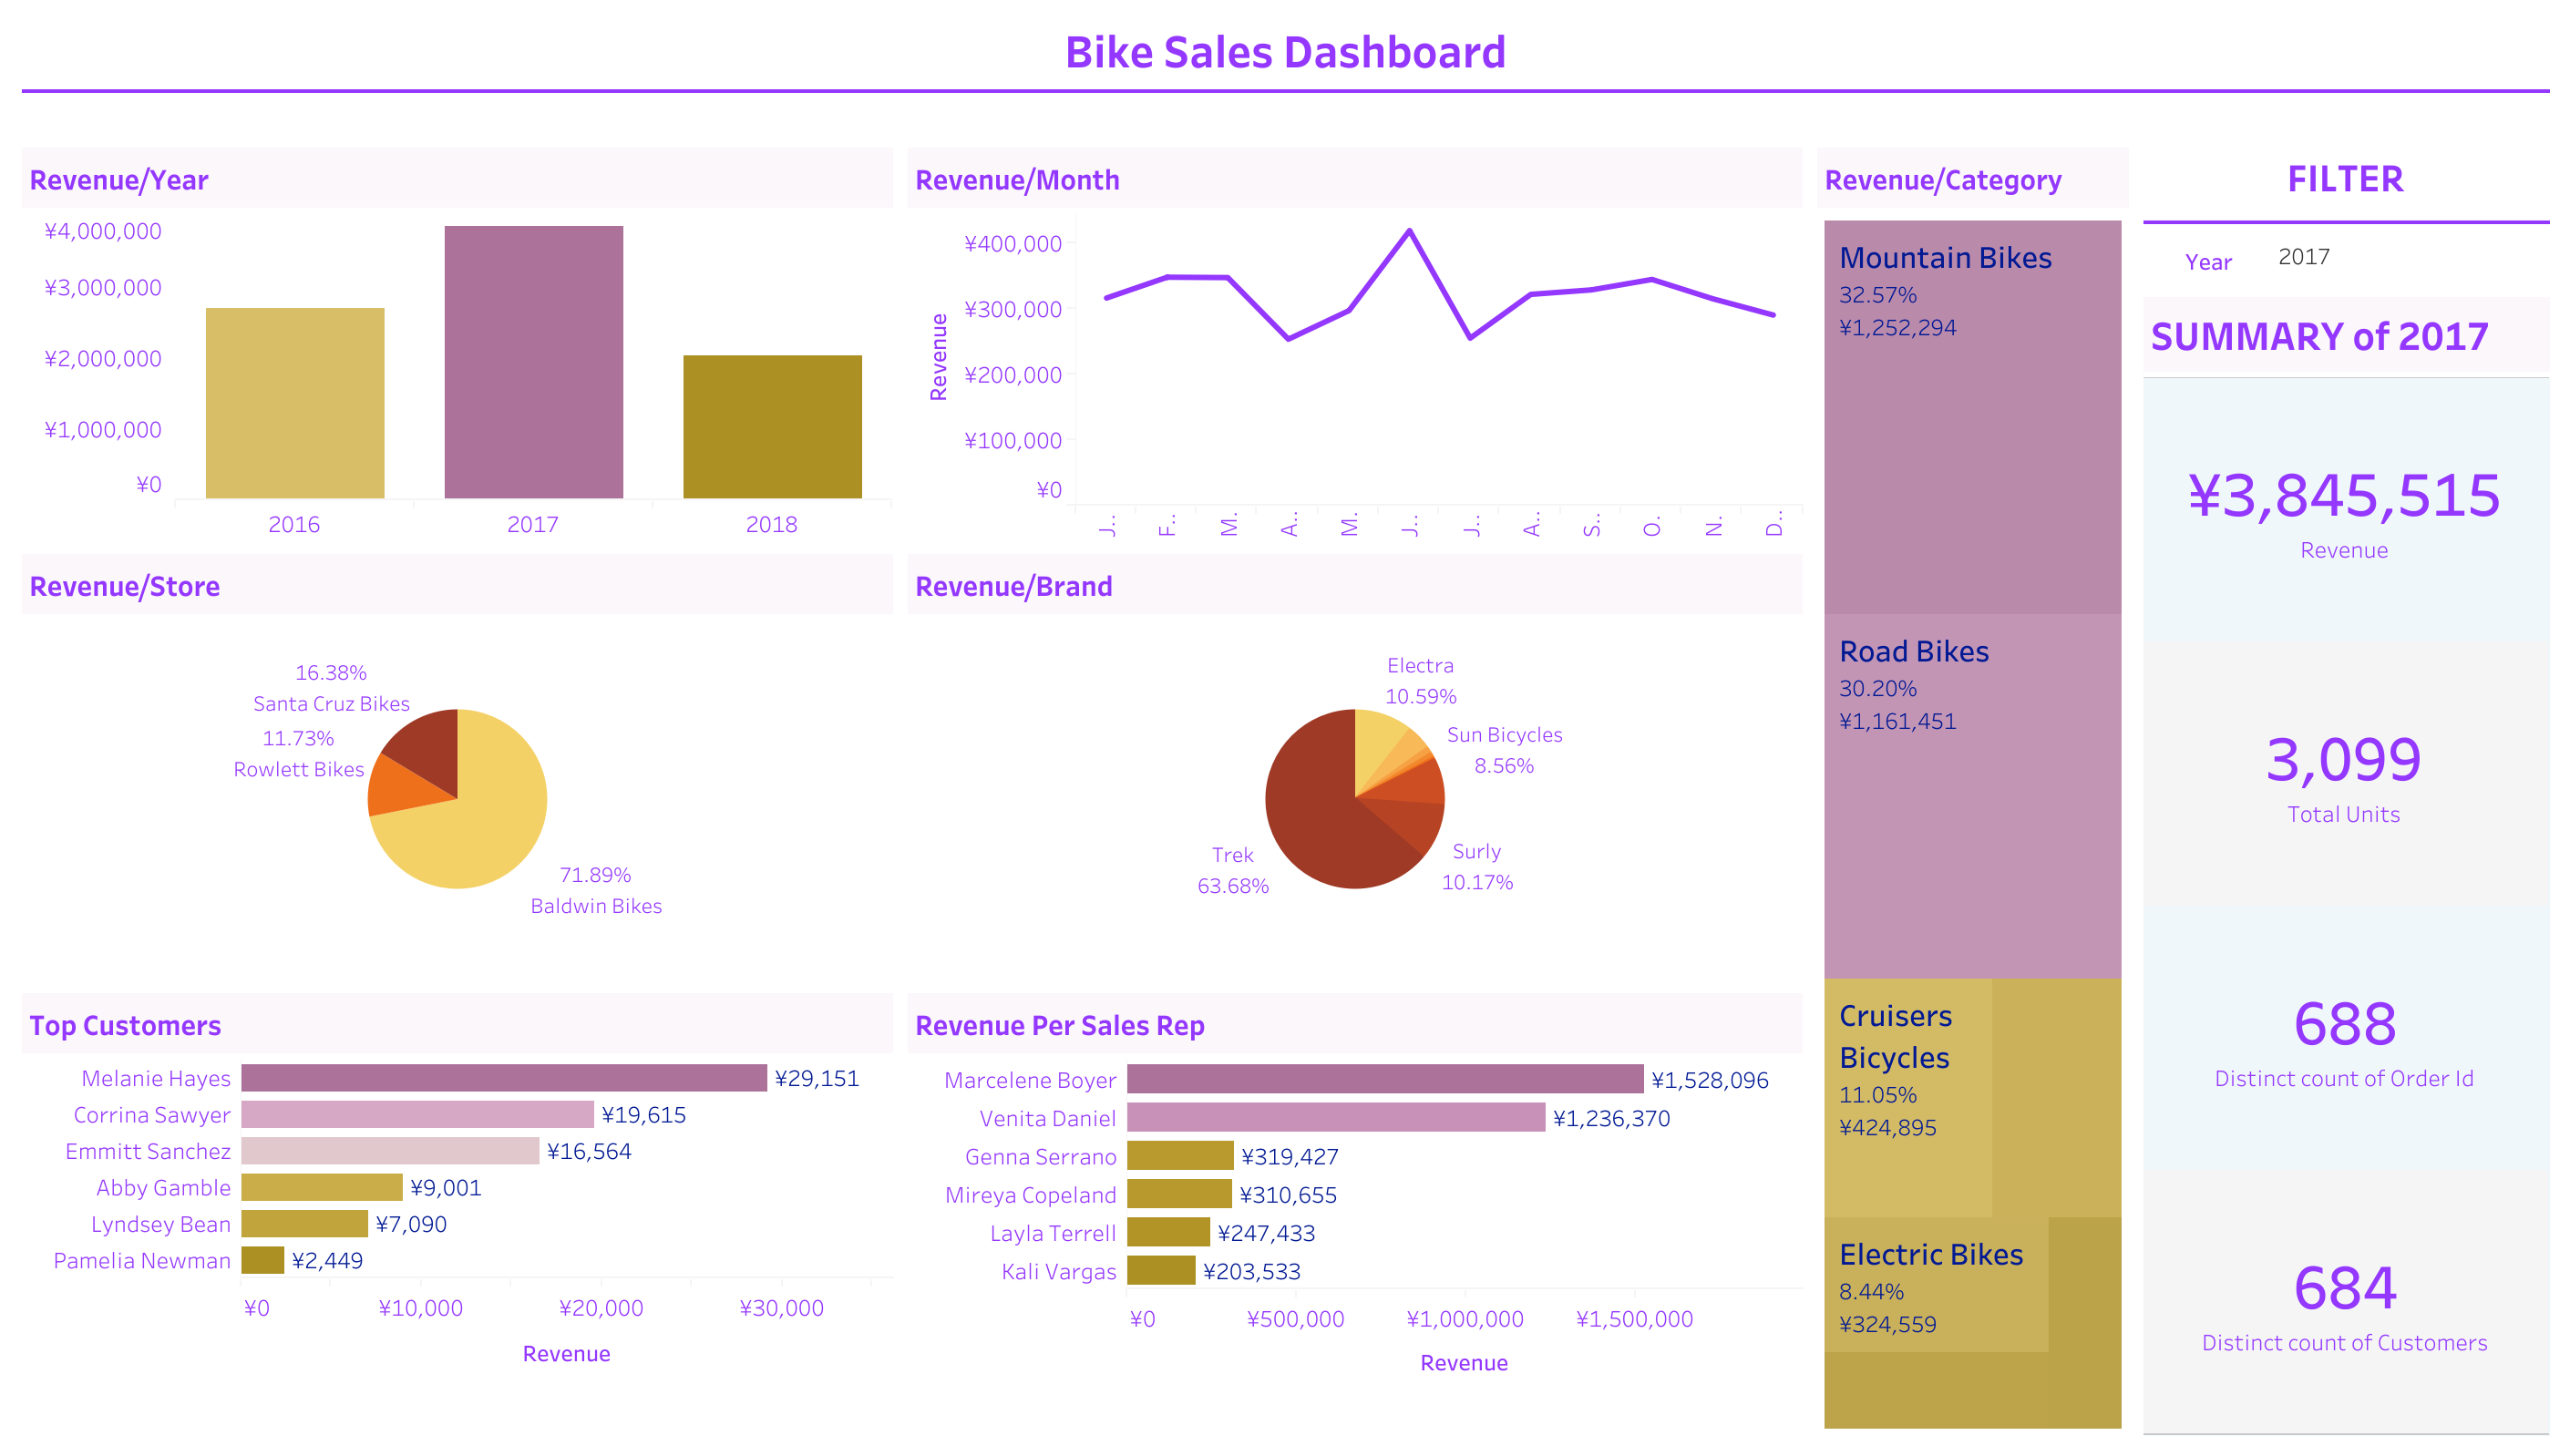

Layout of this report page (visuals, bound fields, positions):
{"tool":"tableau","page":{"name":"Dashboard 2","canvas":[1000,1000],"units":"permille","ordinal":1},"visuals":[{"type":"text","box":[5.9,10,988.3,46.2]},{"type":"blank","box":[5.9,56.2,988.3,12.5]},{"type":"worksheet","title":"Revenue/Year","mark":"Bar","rows":["revenue"],"cols":["order_date"],"box":[5.9,96.2,344.1,278.8]},{"type":"worksheet","title":"Revenue/Month","mark":"Automatic","rows":["revenue"],"cols":["order_date"],"box":[349.9,96.2,353.6,278.8]},{"type":"worksheet","title":"Revenue/Category","mark":"Automatic","box":[703.5,96.2,126.7,893.8]},{"type":"text","box":[830.2,96.2,164,50]},{"type":"blank","box":[830.2,146.2,164,12.5]},{"type":"filter","title":"Revenue/Month","param":"[federated.1shnwpl1sc81je1c1tn381dx8m1g].[yr:order_date:ok]","box":[830.2,158.8,164,40]},{"type":"worksheet","title":"Banner","mark":"Automatic","box":[830.2,198.8,164,791.2]},{"type":"worksheet","title":"Revenue/Store","mark":"Pie","box":[5.9,375,344.1,301.2]},{"type":"worksheet","title":"Revenue/Brand","mark":"Pie","box":[349.9,375,353.6,301.2]},{"type":"worksheet","title":"Revenue/Top Customers","mark":"Automatic","rows":["customers"],"cols":["revenue"],"box":[5.9,676.2,344.1,313.8]},{"type":"worksheet","title":"Revenue/Sales Rep","mark":"Automatic","rows":["sales_rep"],"cols":["revenue"],"box":[349.9,676.2,353.6,313.8]}]}

Visuals, with their boxes on the dashboard's canvas, which has no fixed pixel size, in thousandths of its width and height (x1, y1, x2, y2). These are canvas units, not pixel positions in the 2570x1456 screenshot, which may show the page scaled, cropped or inside an application window:
text: (left=6, top=10, right=994, bottom=56)
blank: (left=6, top=56, right=994, bottom=69)
"Revenue/Year" worksheet (Bar marks): (left=6, top=96, right=350, bottom=375)
"Revenue/Month" worksheet: (left=350, top=96, right=704, bottom=375)
"Revenue/Category" worksheet: (left=704, top=96, right=830, bottom=990)
text: (left=830, top=96, right=994, bottom=146)
blank: (left=830, top=146, right=994, bottom=159)
"Revenue/Month" filter: (left=830, top=159, right=994, bottom=199)
"Banner" worksheet: (left=830, top=199, right=994, bottom=990)
"Revenue/Store" worksheet (Pie marks): (left=6, top=375, right=350, bottom=676)
"Revenue/Brand" worksheet (Pie marks): (left=350, top=375, right=704, bottom=676)
"Revenue/Top Customers" worksheet: (left=6, top=676, right=350, bottom=990)
"Revenue/Sales Rep" worksheet: (left=350, top=676, right=704, bottom=990)
